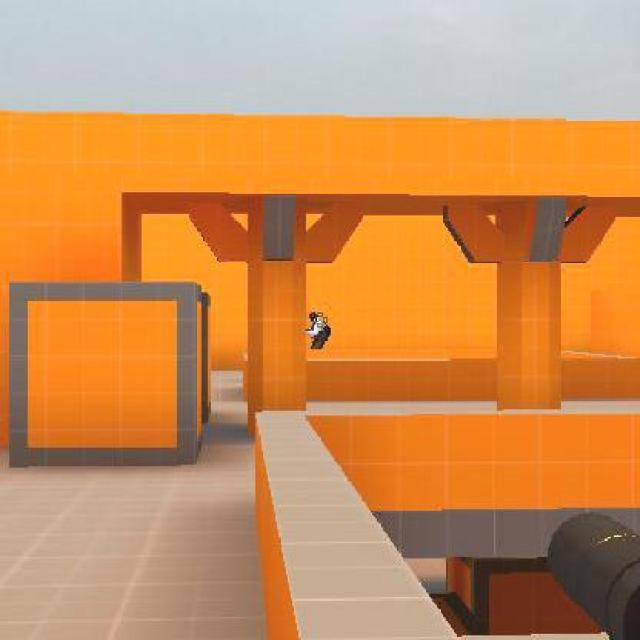T: (306, 312, 331, 350)
T_HEAD: (308, 310, 317, 324)
